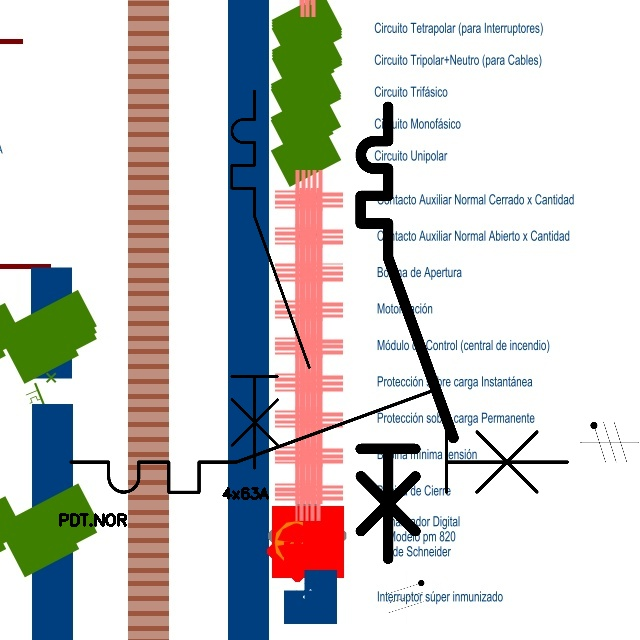interruptor_termomagnetico: (58, 377, 580, 505), (349, 95, 465, 570), (222, 81, 319, 478)
